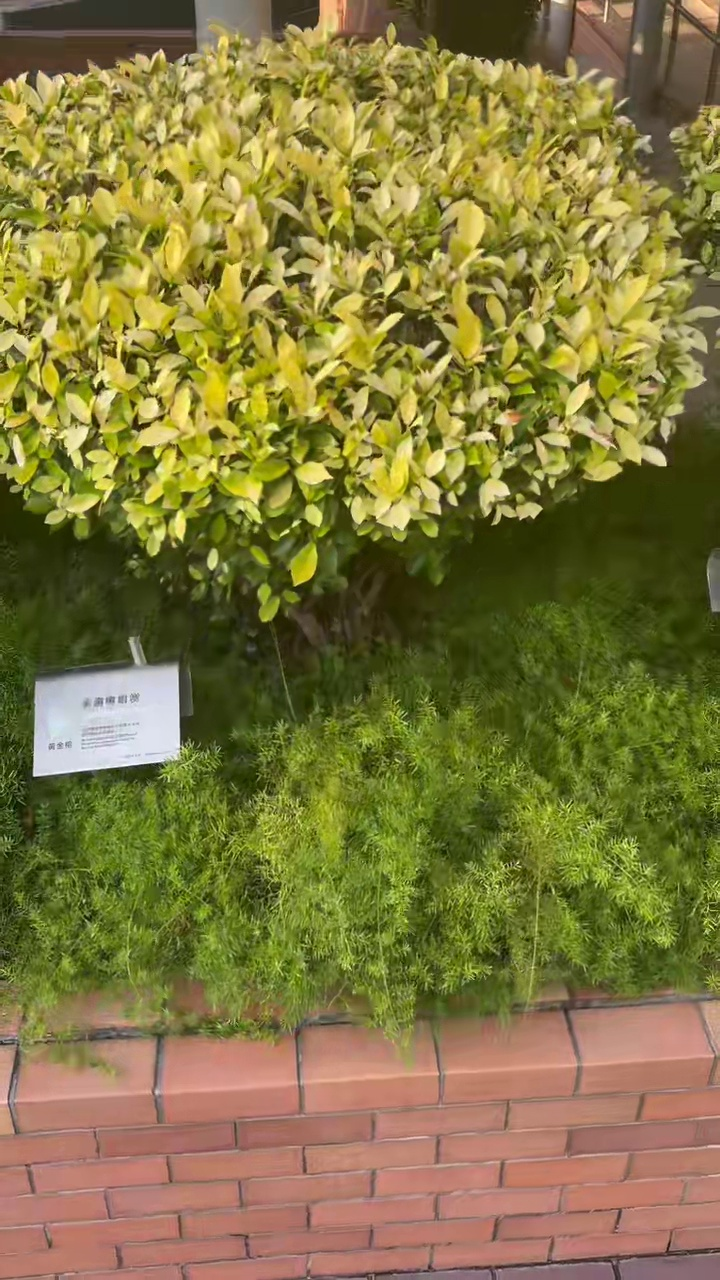Golden-leaves Fig: (0, 32, 698, 619)
